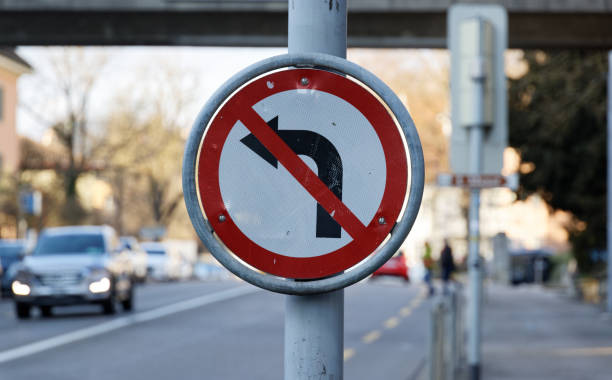otomobil: (1, 216, 161, 312)
sola_girilmez: (198, 53, 406, 282)
